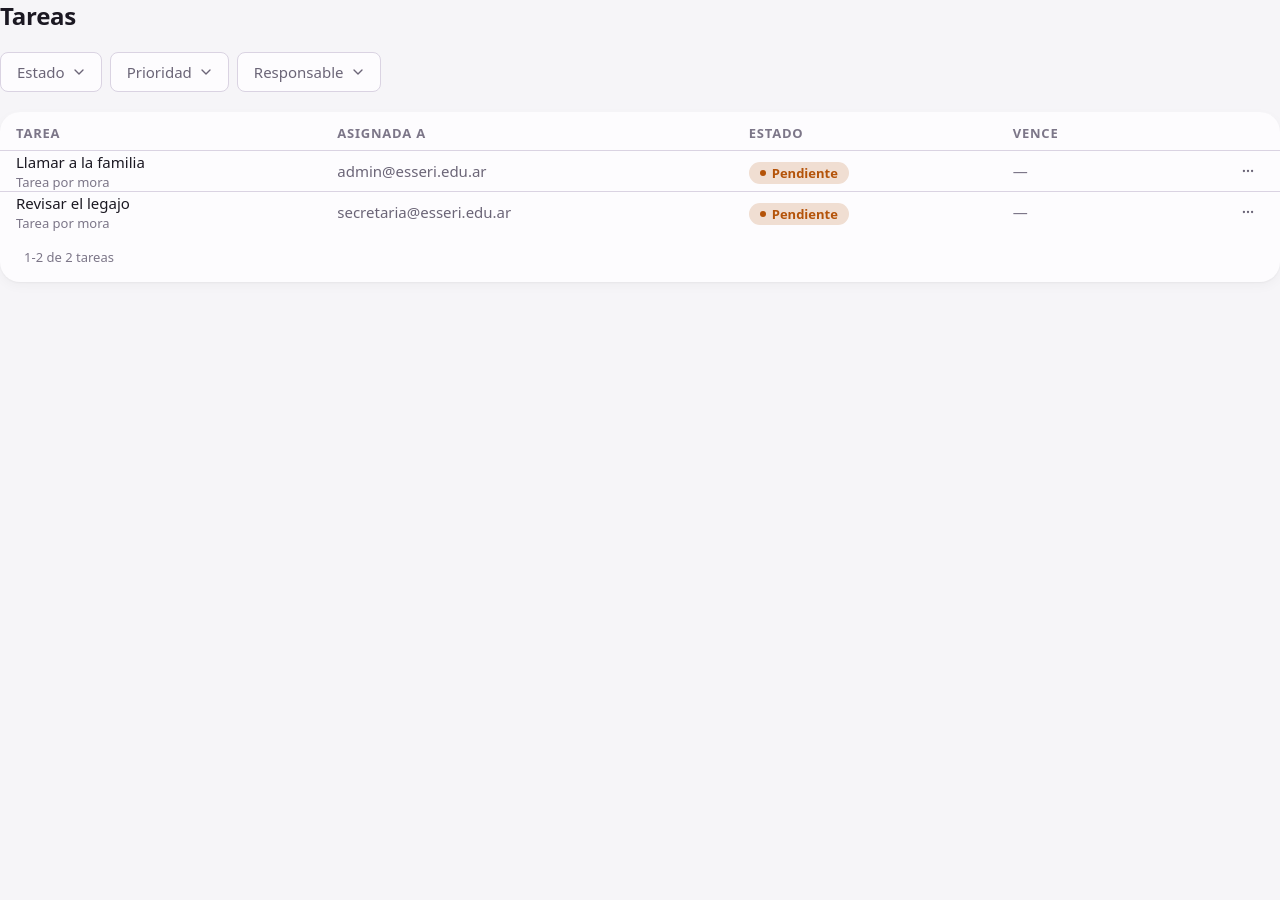
Test: TareasPage › el detalle muestra el historial de escalamiento de la tarea
The width and height of the screenshot is (1280, 900).
Expected: the text "Revisar el legajo" is shown, [16,193,130,213]
What coordinates should you click on to do the following:
click the button named "Acciones para "
I would click on:
 (1248, 171)
Its box is [1232,155,1264,187].
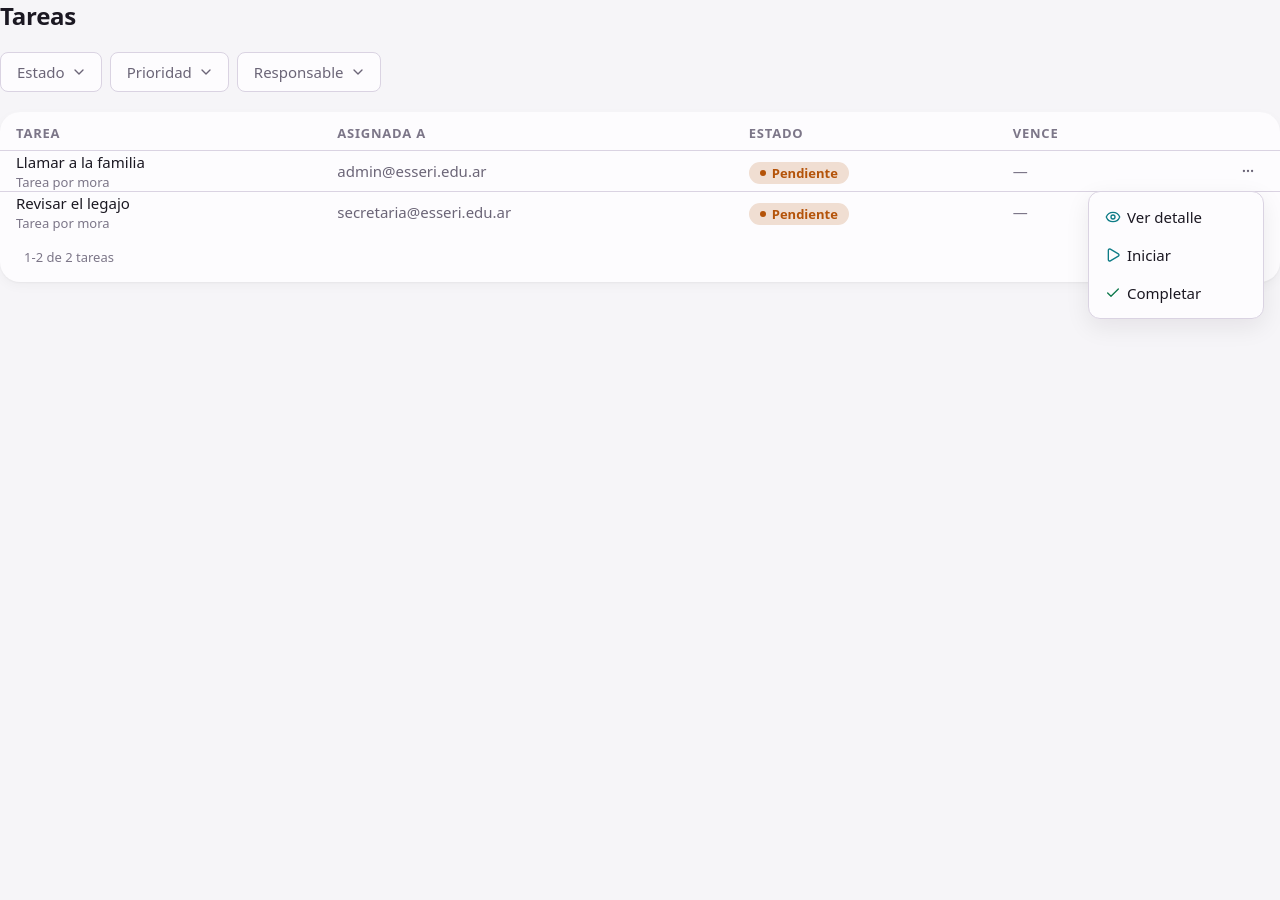
What coordinates should you click on to do the following:
click the menu item "Ver detalle"
I would click on:
 (1154, 217)
Its box is [1105,207,1202,227].
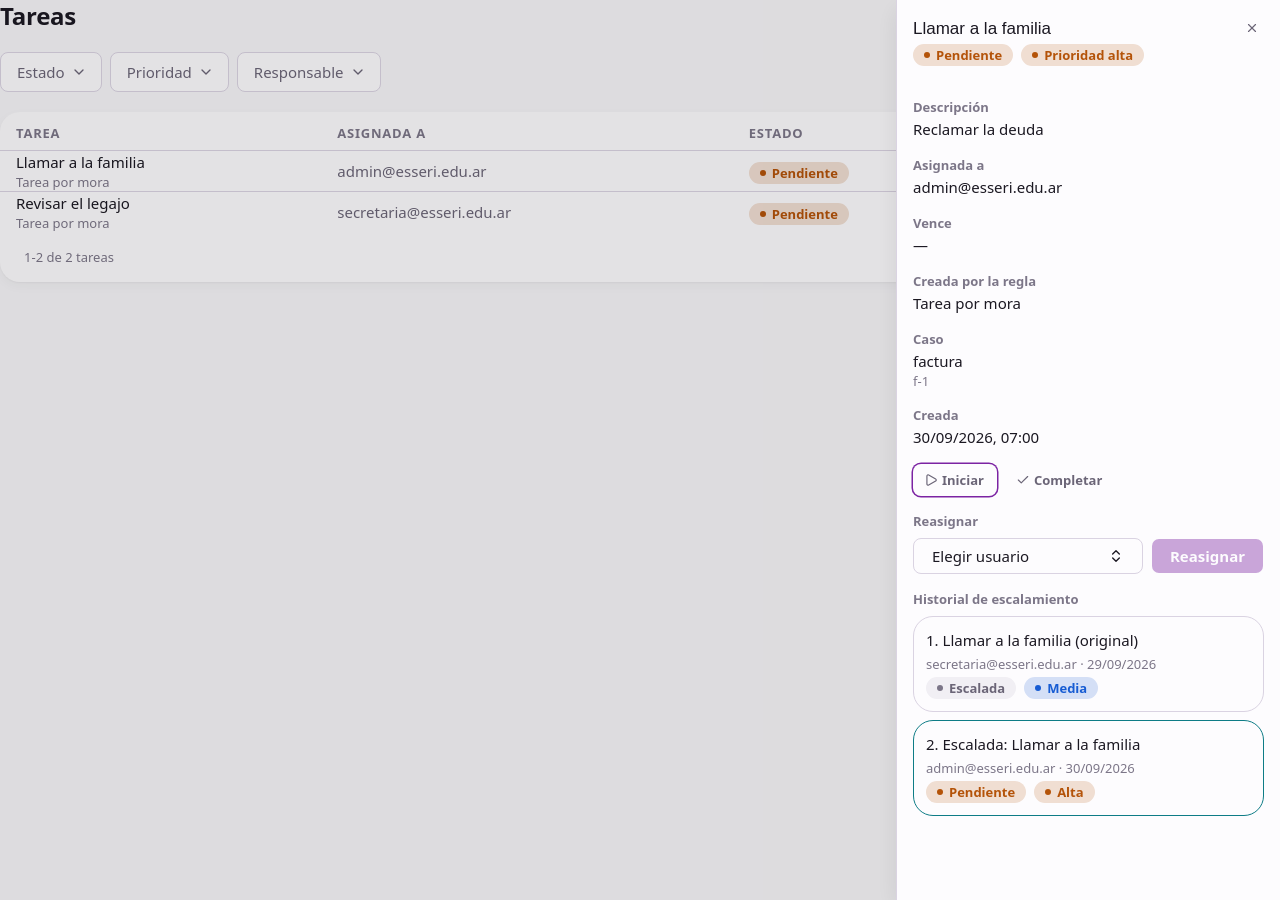
Now the heading "Historial de escalamiento" is shown, box [913,590,1079,608]
Now the text "1. Llamar a la familia (original)" is shown, box [926,630,1138,650]
Now the text "2. Escalada: Llamar a la familia" is shown, box [926,734,1140,754]
